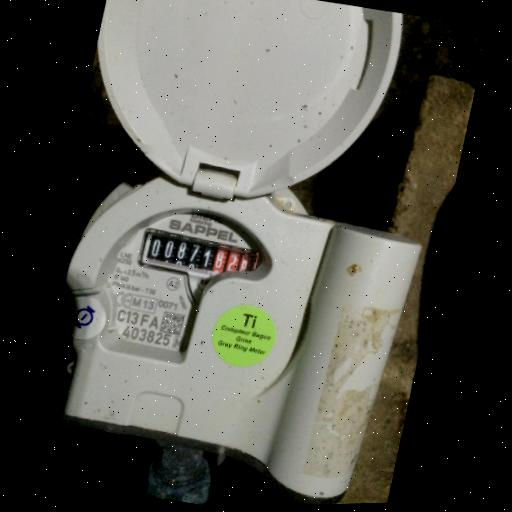0: (146, 234, 167, 261), (160, 236, 179, 263)
1: (199, 244, 218, 271)
2: (224, 249, 243, 274)
7: (185, 242, 204, 269)
8: (173, 239, 192, 266), (211, 247, 229, 274), (237, 252, 253, 273)
border_water_meter_number: (134, 224, 263, 291)
